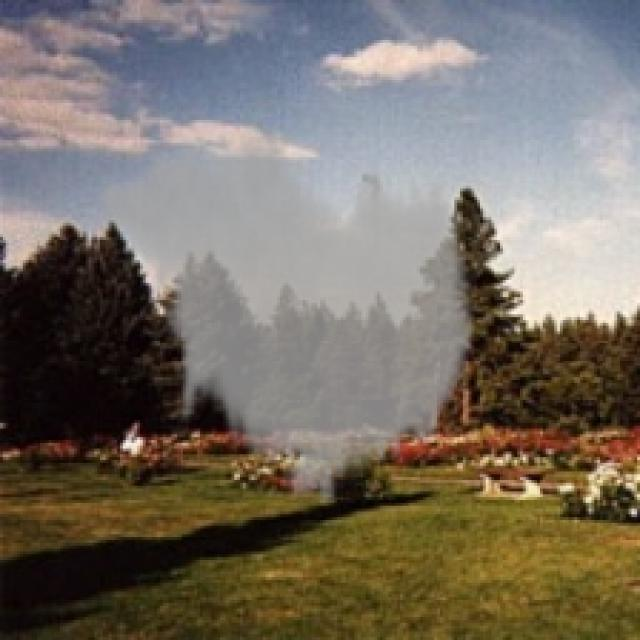smoke: (94, 114, 480, 512)
